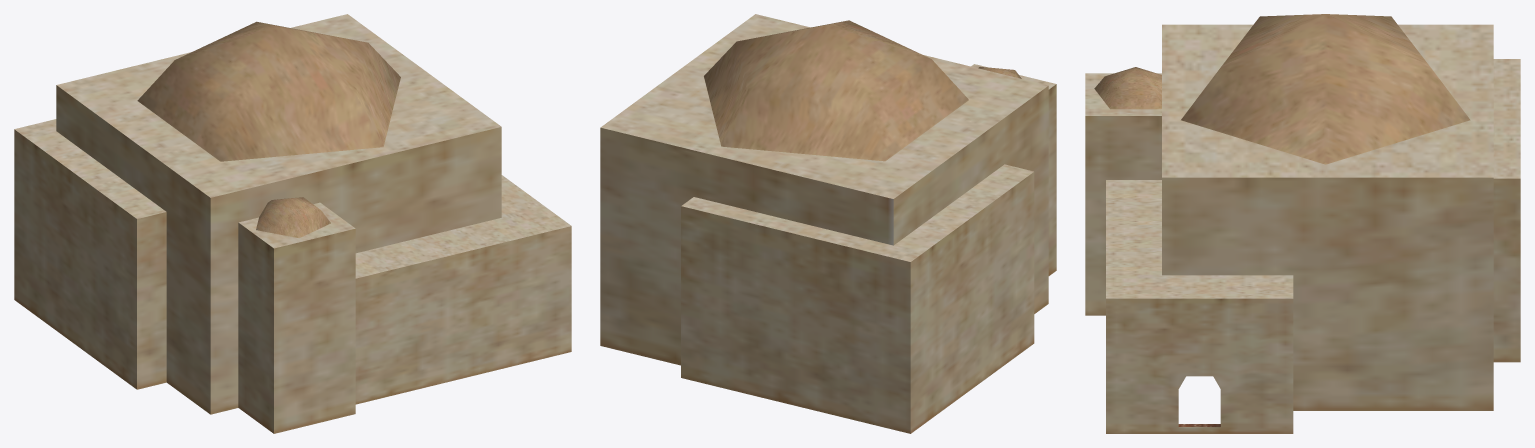
The model's file is thm_tato_imprv_building_s01_r0_mesh_l4.fbx.
3 views of the same model, side by side, from view 1: azimuth 30°, elevation 25°; view 2: azimuth 150°, elevation 25°; view 3: azimuth 270°, elevation 25° (orthographic). The views are drawn at different scales.
Parts seen in each view (by area): view 1: mesh_node; view 2: mesh_node; view 3: mesh_node.
Boxes of the visible parts, box(x1,y1,x2,y2) form: mesh_node: box(14, 14, 571, 433); mesh_node: box(600, 14, 1056, 433); mesh_node: box(1085, 14, 1520, 433).
Size of the model in its own units: 22.87 by 17.79 by 21.97.
